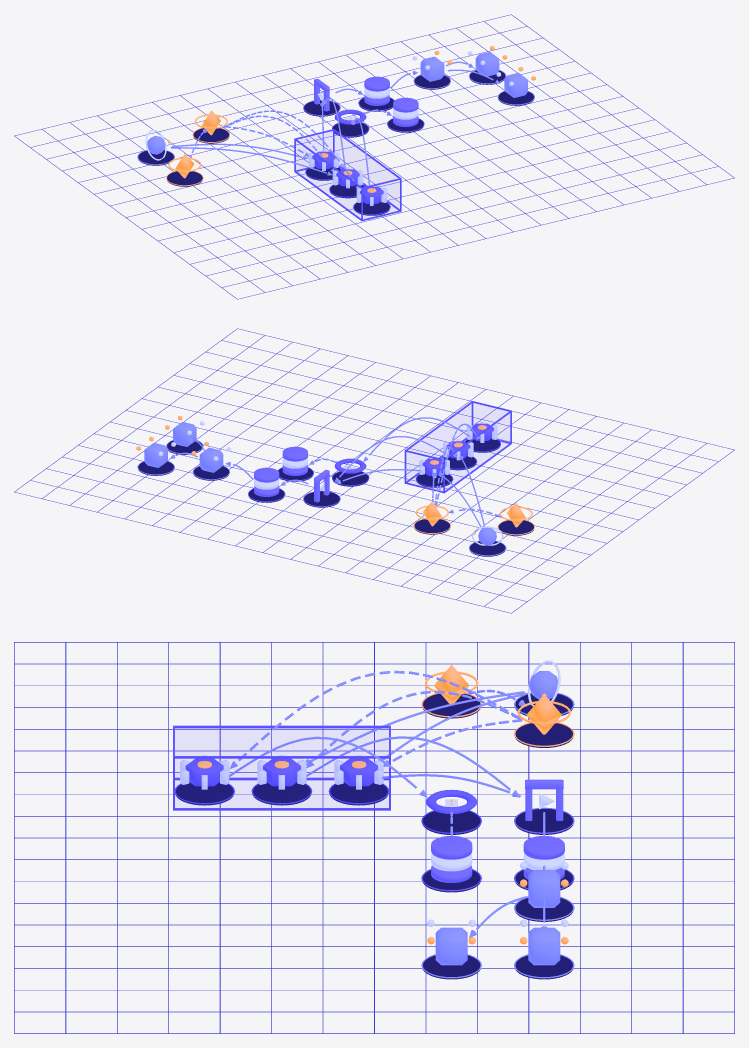
The model's file is nginx.glb.
The picture shows the model from 3 angles, top to bottom: view 1: azimuth 30°, elevation 25°; view 2: azimuth 150°, elevation 25°; view 3: azimuth 270°, elevation 25°; orthographic projection. The views are drawn at different scales.
Visible parts, largest first — view 1: floor, group_Worker_processes, mesh_upstream_core, mesh_appA_core, mesh_appB_core; view 2: floor, group_Worker_processes, mesh_upstream_core, mesh_appA_core, mesh_appB_core; view 3: floor, group_Worker_processes, mesh_appA_core, mesh_appB_core, mesh_upstream_core, mesh_stream_pad, mesh_master_pad, mesh_tls_pad, mesh_w3_pad, mesh_w1_pad, mesh_w2_pad, mesh_config_pad (+13 smaller).
Part boxes in pixels (<box>): floor: <box>14,14,734,299</box>; group_Worker_processes: <box>294,129,401,221</box>; mesh_upstream_core: <box>420,56,444,81</box>; mesh_appA_core: <box>475,51,499,76</box>; mesh_appB_core: <box>504,72,527,97</box>; floor: <box>14,328,734,613</box>; group_Worker_processes: <box>404,401,511,493</box>; mesh_upstream_core: <box>199,447,223,472</box>; mesh_appA_core: <box>144,443,167,467</box>; mesh_appB_core: <box>173,421,196,446</box>; floor: <box>14,642,734,1033</box>; group_Worker_processes: <box>173,725,390,810</box>; mesh_appA_core: <box>528,927,560,965</box>; mesh_appB_core: <box>435,927,467,965</box>; mesh_upstream_core: <box>528,870,560,907</box>; mesh_stream_pad: <box>423,811,480,834</box>; mesh_master_pad: <box>515,723,572,747</box>; mesh_tls_pad: <box>515,809,572,834</box>; mesh_w3_pad: <box>175,782,233,805</box>; mesh_w1_pad: <box>330,782,387,805</box>; mesh_w2_pad: <box>253,782,310,805</box>; mesh_config_pad: <box>423,693,480,718</box>.
Size of the model in its own units: 36.03 by 4.32 by 28.03.
